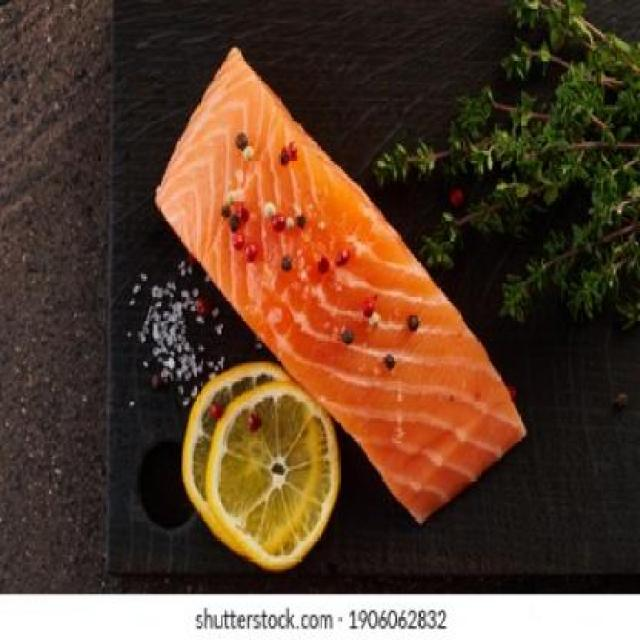salmon: (152, 42, 533, 530)
